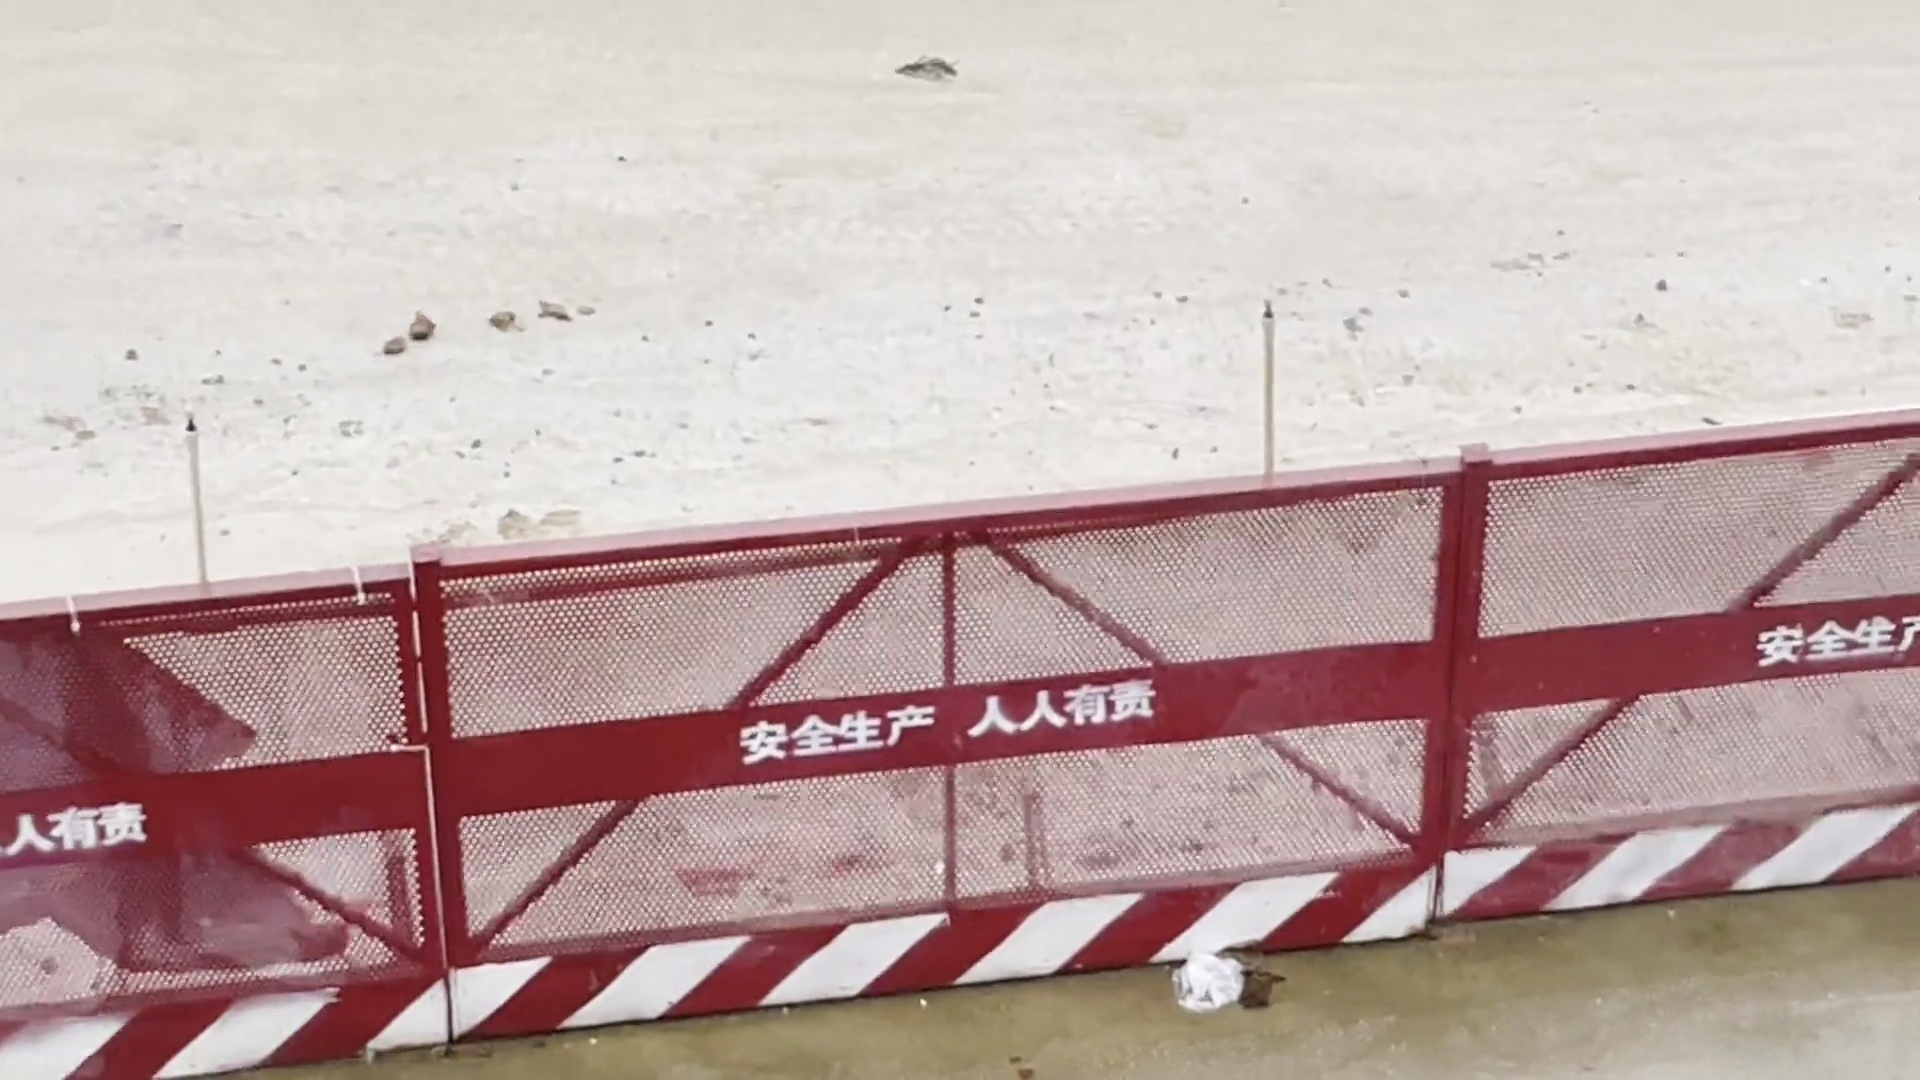fence: (1, 483, 1799, 1011)
